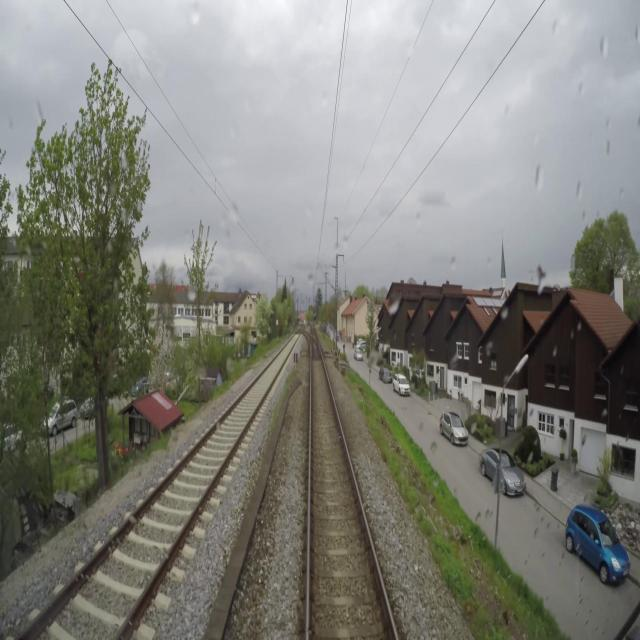rail-track: (37, 334, 297, 639), (310, 340, 394, 639)
